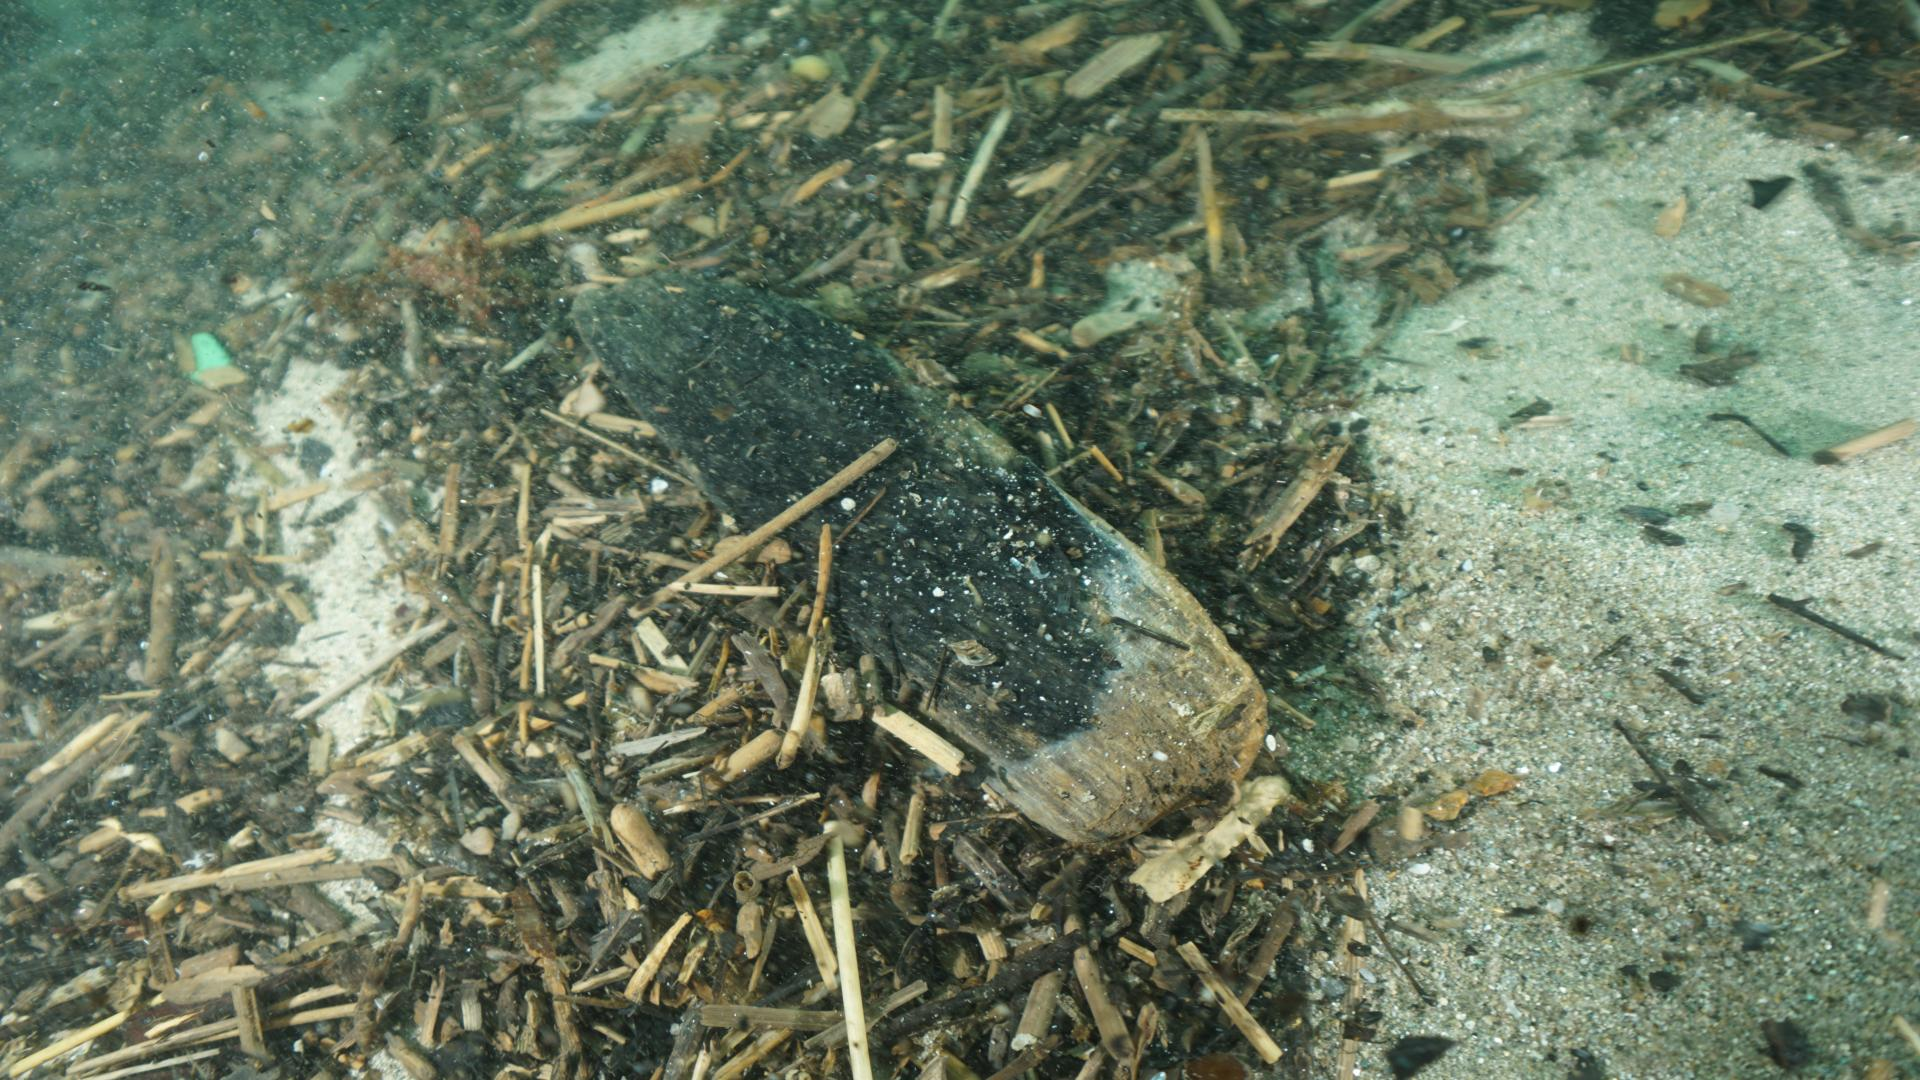wood: (560, 262, 1276, 858)
